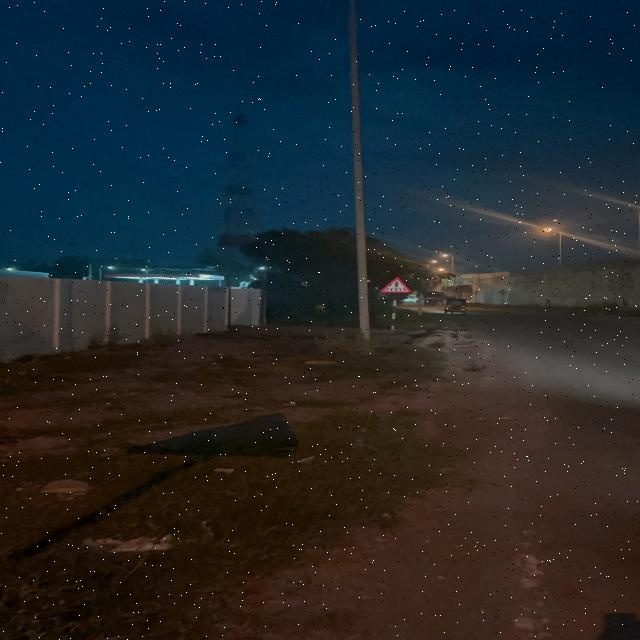Pedestrain_crossing: (382, 278, 413, 294)
